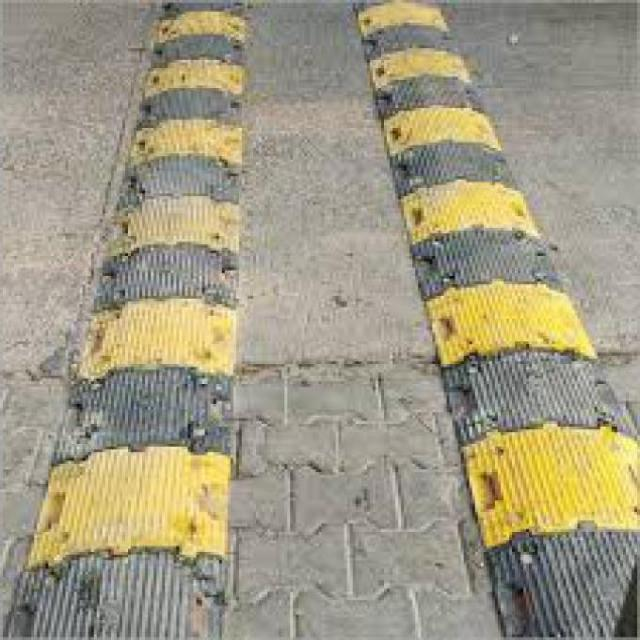speedbreaker: (339, 2, 640, 640), (1, 0, 265, 640)
